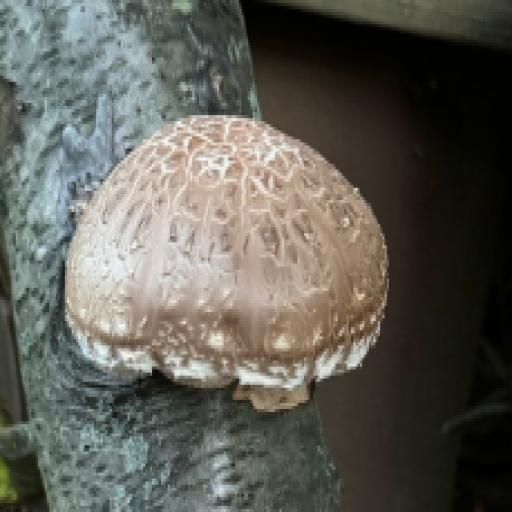Shiitake Mushroom: (70, 109, 398, 389)
